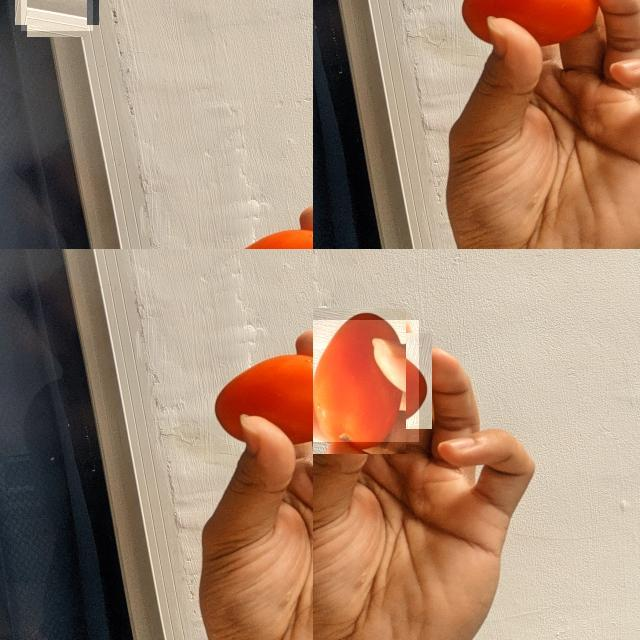Fresh Tomato: (313, 320, 419, 441), (20, 0, 93, 31)
